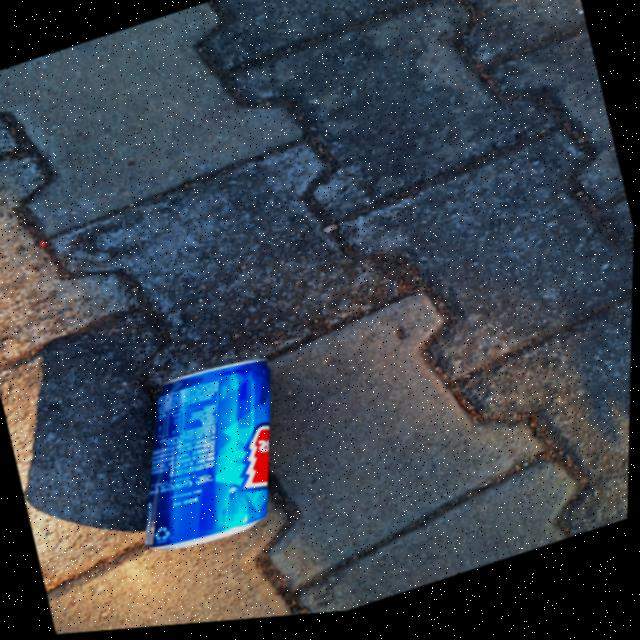Thums Up: (107, 344, 314, 576)
